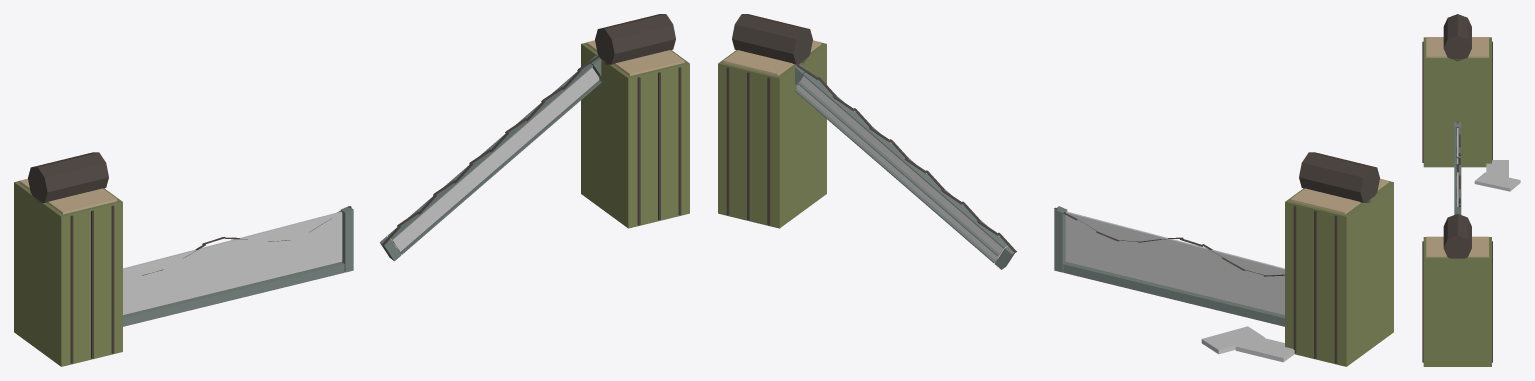
File: SM_PuertaViaDoble_v3_MallaEspino_e2_MuyDanado_LOD0.fbx
3 views of the same model, side by side, from view 1: azimuth 30°, elevation 25°; view 2: azimuth 150°, elevation 25°; view 3: azimuth 270°, elevation 25° (orthographic). The views are drawn at different scales.
Parts seen in each view (by area): view 1: SM_puerta_via_doble_v14_LOD0, Hoja_O, Hoja_E; view 2: SM_puerta_via_doble_v14_LOD0, Hoja_O, Hoja_E; view 3: SM_puerta_via_doble_v14_LOD0, Hoja_O.
Boxes of the visible parts, x1,y1,x2,y2 form: SM_puerta_via_doble_v14_LOD0: [14, 14, 689, 366]; Hoja_O: [123, 206, 353, 326]; Hoja_E: [380, 55, 601, 261]; SM_puerta_via_doble_v14_LOD0: [718, 14, 1393, 366]; Hoja_O: [1054, 206, 1284, 326]; Hoja_E: [795, 64, 1016, 269]; SM_puerta_via_doble_v14_LOD0: [1422, 14, 1520, 366]; Hoja_O: [1454, 121, 1461, 214].
Bounding box in the file's own units: 9.2 × 2.58 × 1.72.
